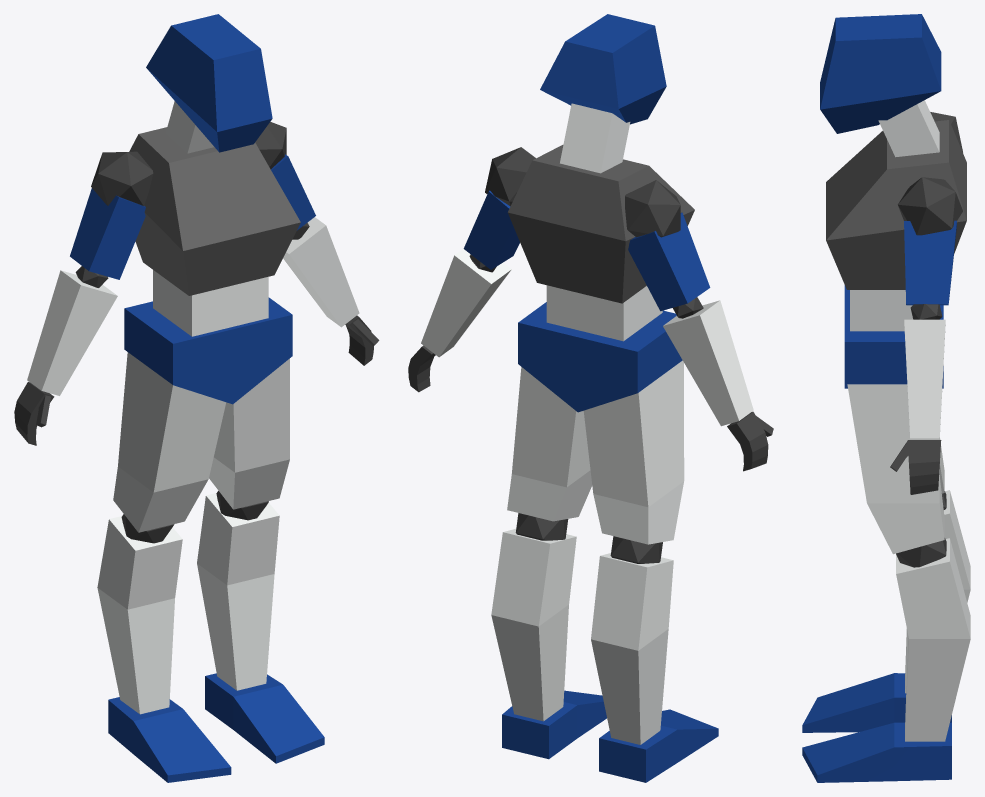
Rendered from Ragdoll.fbx.
3 renders of one model, left to right at view 1: azimuth 30°, elevation 25°; view 2: azimuth 150°, elevation 25°; view 3: azimuth 270°, elevation 25°, orthographic.
Parts seen in each view (by area): view 1: polySurface119, polySurface107, polySurface98, polySurface108, polySurface116, polySurface115, polySurface99, polySurface121, polySurface120, polySurface114, polySurface109, polySurface111 (+9 smaller); view 2: polySurface119, polySurface107, polySurface98, polySurface108, polySurface115, polySurface116, polySurface99, polySurface114, polySurface121, polySurface111, polySurface110, polySurface109 (+9 smaller); view 3: polySurface119, polySurface116, polySurface108, polySurface99, polySurface120, polySurface121, polySurface110, polySurface115, polySurface95, polySurface101, polySurface109, polySurface97 (+4 smaller).
Part boxes in pixels (box(x1,y1,x2,y2)): polySurface119: box(129, 127, 300, 295); polySurface107: box(113, 352, 226, 532); polySurface98: box(97, 516, 182, 714); polySurface108: box(197, 493, 279, 690); polySurface116: box(146, 14, 272, 152); polySurface115: box(124, 297, 292, 404); polySurface99: box(209, 358, 289, 509); polySurface121: box(108, 697, 231, 782); polySurface120: box(205, 673, 324, 763); polySurface114: box(27, 270, 117, 395); polySurface109: box(153, 270, 268, 336); polySurface111: box(70, 188, 145, 279); polySurface119: box(507, 145, 694, 303); polySurface107: box(583, 360, 684, 544); polySurface98: box(591, 553, 673, 744); polySurface108: box(491, 528, 576, 721); polySurface115: box(518, 302, 682, 412); polySurface116: box(540, 14, 666, 124); polySurface99: box(507, 367, 592, 521); polySurface114: box(663, 300, 753, 426); polySurface121: box(599, 709, 718, 782); polySurface111: box(628, 212, 710, 311); polySurface110: box(421, 249, 511, 357); polySurface109: box(546, 285, 662, 341); polySurface119: box(826, 120, 966, 289); polySurface116: box(820, 14, 941, 133); polySurface108: box(896, 538, 970, 741); polySurface99: box(847, 384, 944, 554); polySurface120: box(802, 722, 951, 782); polySurface121: box(802, 673, 951, 732); polySurface110: box(904, 319, 945, 438); polySurface115: box(844, 285, 943, 388); polySurface95: box(904, 220, 956, 305); polySurface101: box(898, 177, 962, 235); polySurface109: box(850, 290, 913, 331); polySurface97: box(878, 100, 939, 157).
Size of the model in its own units: 5.09 by 9.92 by 2.11.
